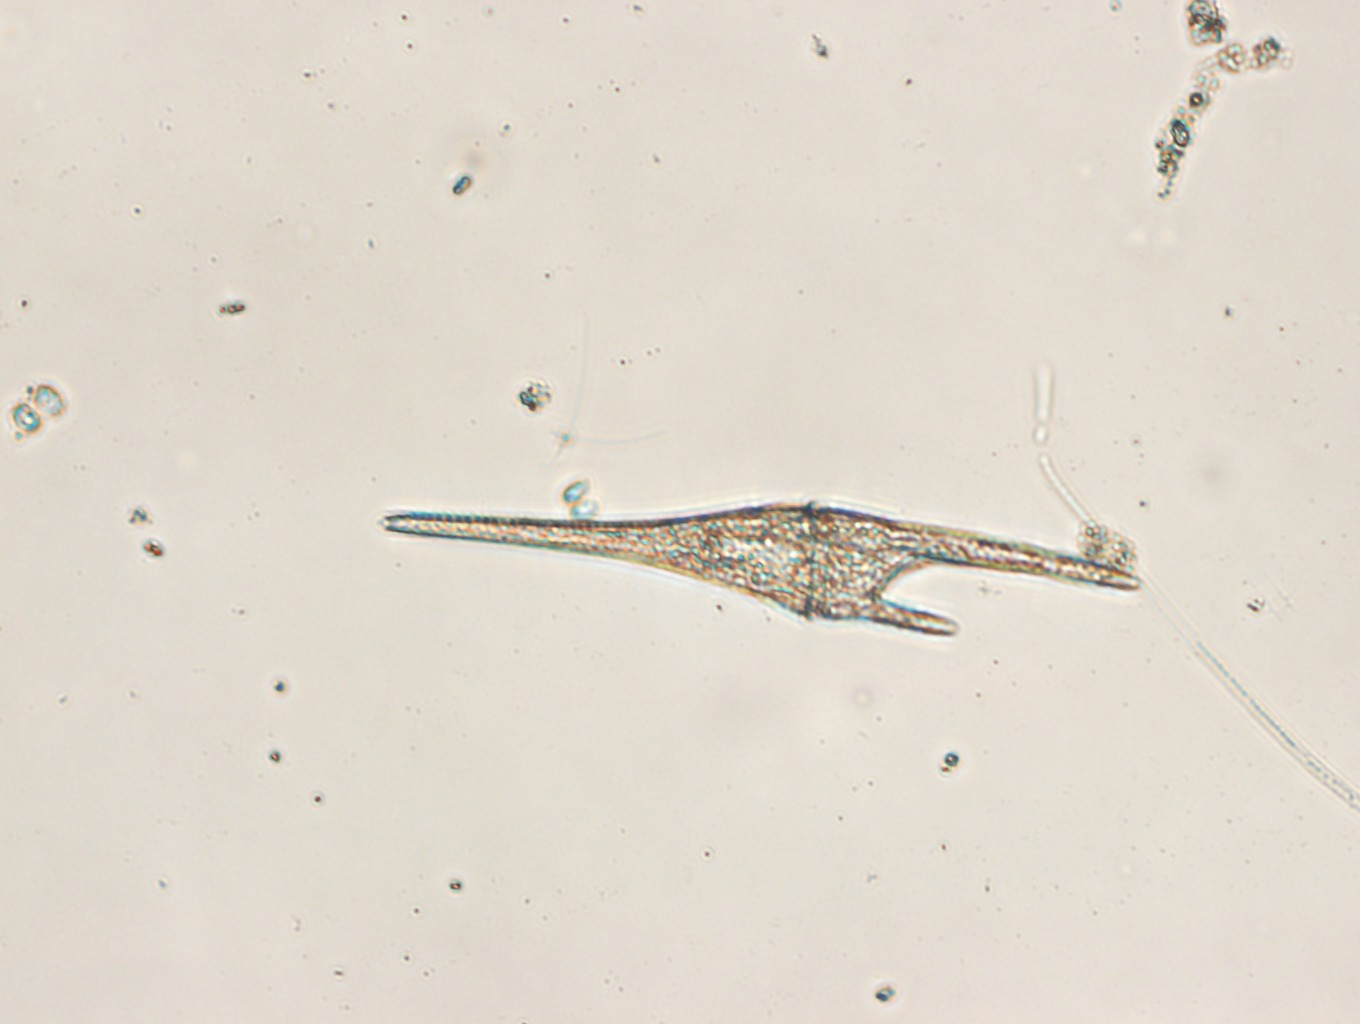ceratium furca: (378, 498, 1139, 639)
